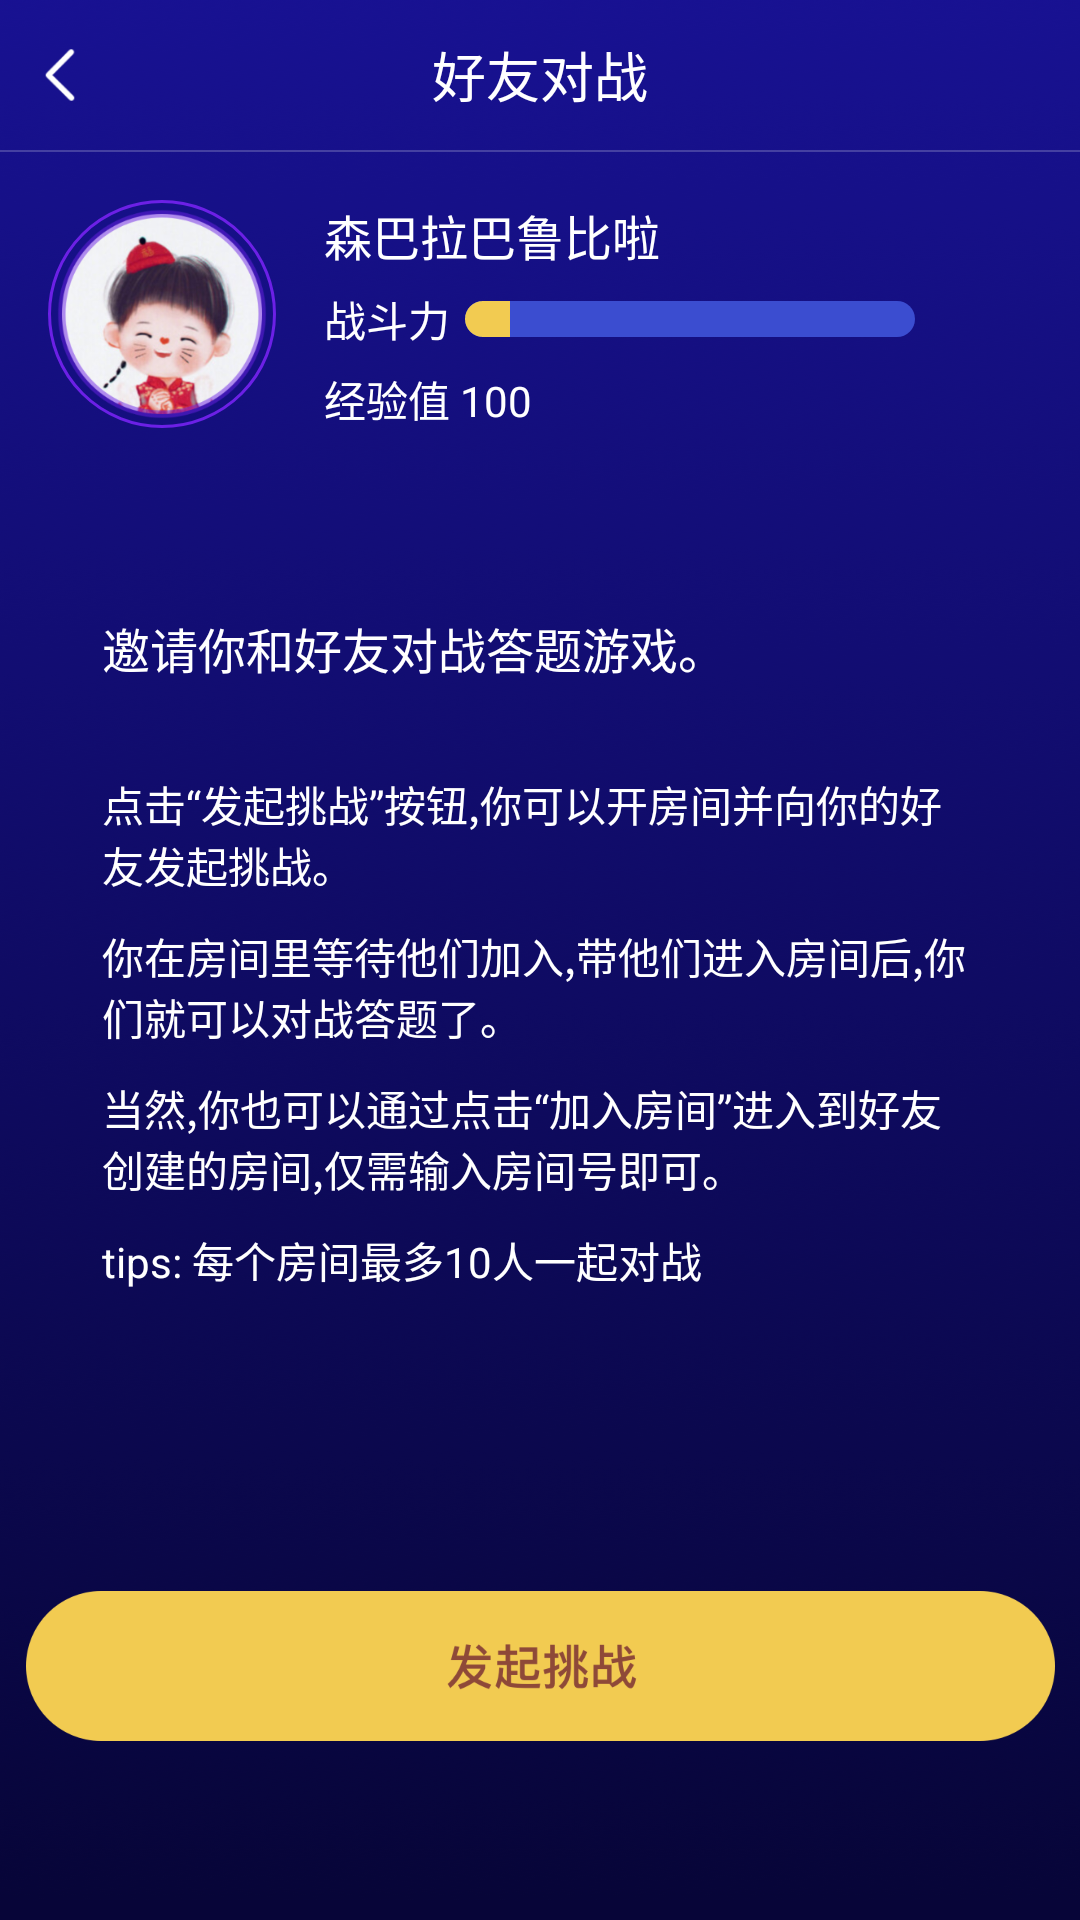

Locate icon controls on the screen. Image size 1080px x 1920px, boxes as (x1, y1, x2, y2).
back: (45, 49, 75, 101)
head: (48, 200, 276, 428)
